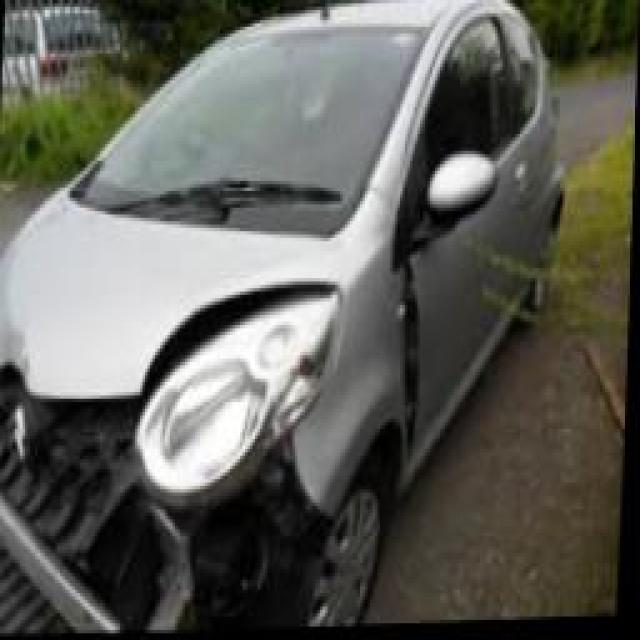Bonnet: (0, 280, 344, 445)
Bumper: (0, 414, 334, 632)
Door: (402, 229, 467, 468)
